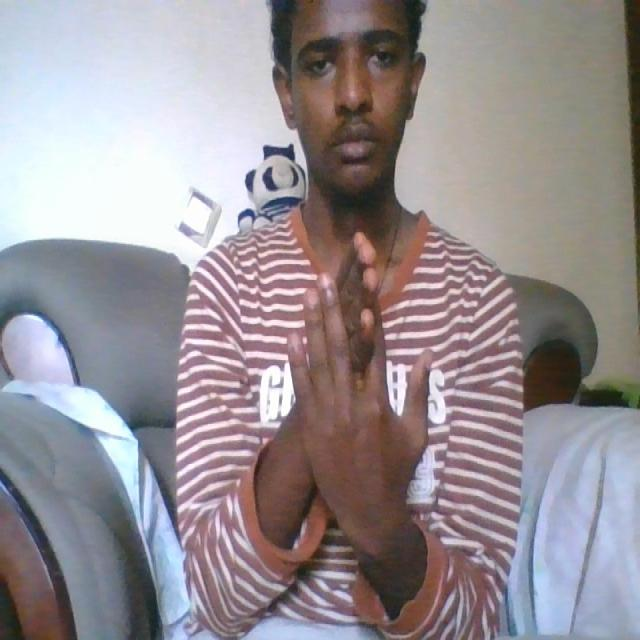bekul: (277, 225, 439, 562)
